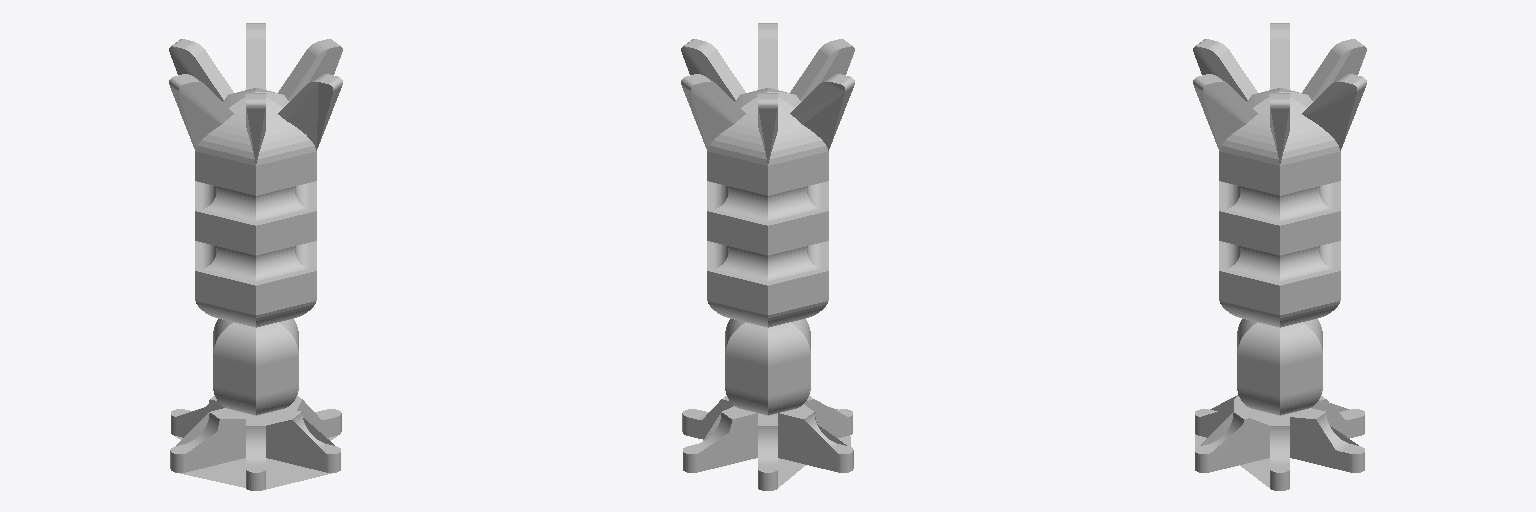
File: HoneyCombPiece_queen_2.obj
3 renders of one model, left to right at view 1: azimuth 30°, elevation 25°; view 2: azimuth 150°, elevation 25°; view 3: azimuth 270°, elevation 25°, orthographic.
Visible parts, largest first — view 1: body.001_Curve.043, leg.001_Curve.041, crown.002_Curve.045; view 2: body.001_Curve.043, crown.002_Curve.045, leg.001_Curve.041; view 3: body.001_Curve.043, leg.001_Curve.041, crown.002_Curve.045.
Part boxes in pixels (x1,y1,x2,y2): body.001_Curve.043: (195, 88, 316, 415); leg.001_Curve.041: (170, 396, 341, 490); crown.002_Curve.045: (169, 23, 342, 163); body.001_Curve.043: (707, 88, 828, 415); crown.002_Curve.045: (681, 23, 854, 163); leg.001_Curve.041: (682, 396, 853, 490); body.001_Curve.043: (1219, 88, 1340, 415); leg.001_Curve.041: (1195, 395, 1364, 490); crown.002_Curve.045: (1193, 23, 1366, 163).
Size of the model in its own units: 0.0236 by 0.052 by 0.0211.